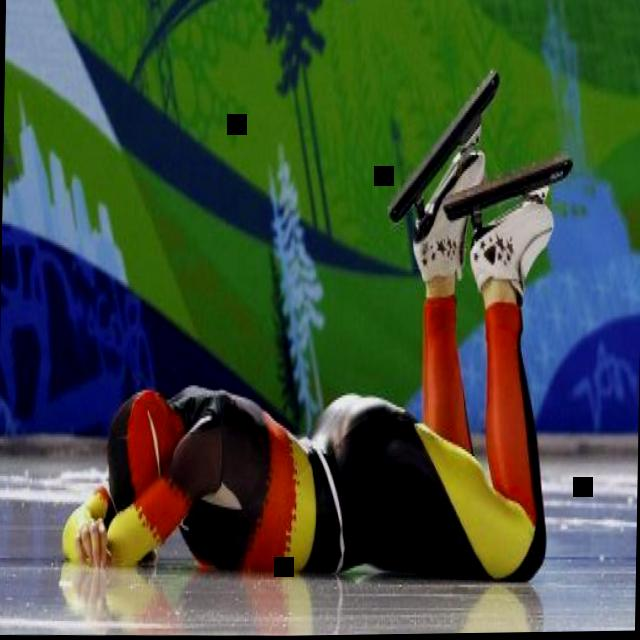Fall-Detected: (61, 59, 578, 595)
